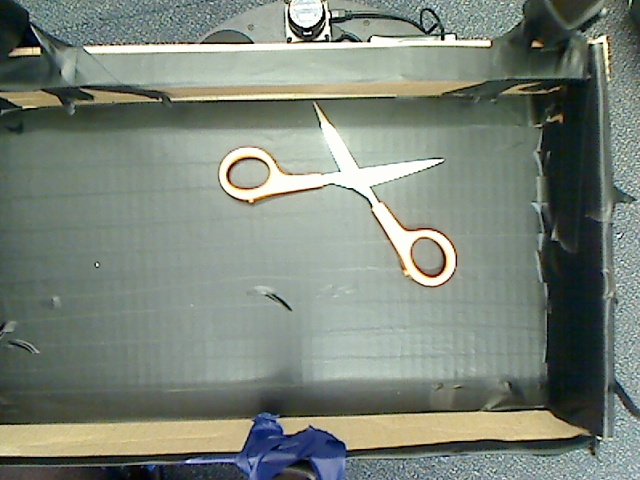scissors: (205, 91, 479, 301)
